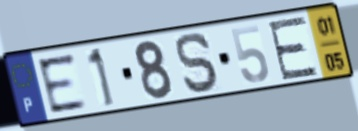1: (85, 45, 117, 109)
5: (227, 22, 271, 85)
8: (133, 38, 175, 101)
E: (266, 13, 321, 83), (34, 50, 90, 116)
S: (174, 30, 222, 95)
